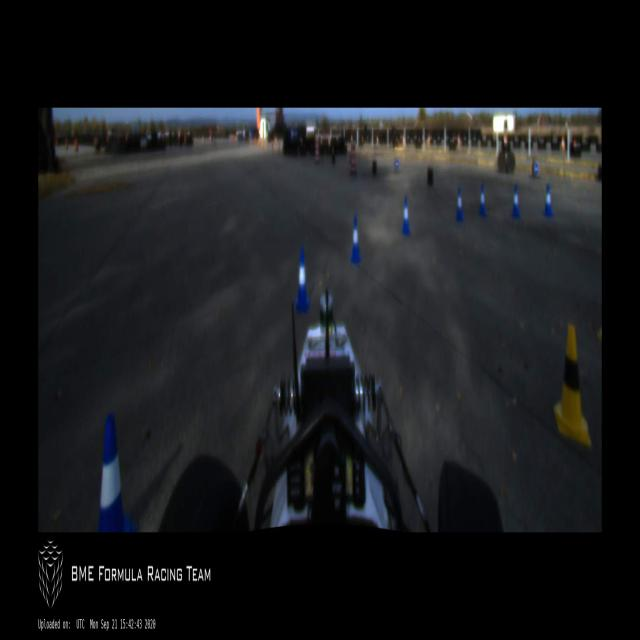blue_cone: (99, 414, 138, 531), (294, 249, 310, 316), (351, 216, 362, 264), (543, 180, 554, 220), (454, 184, 464, 222), (400, 197, 410, 234), (511, 183, 521, 219), (477, 184, 487, 218)
yellow_cone: (554, 324, 592, 448)
